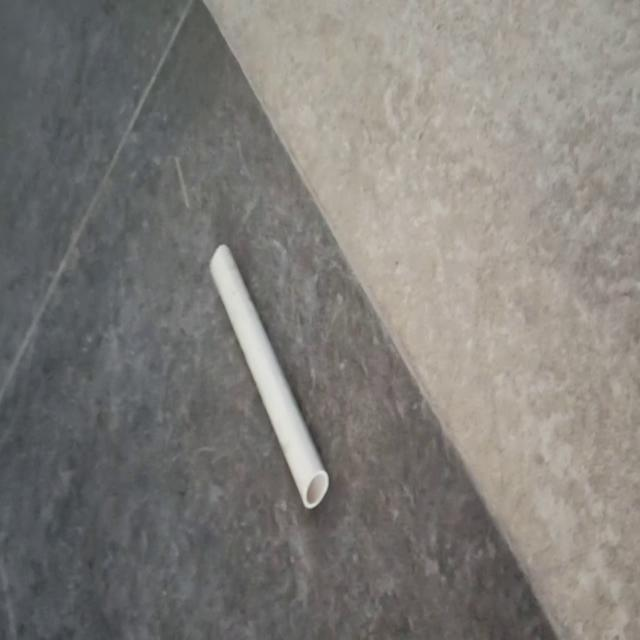Cube: (208, 242, 329, 509)
